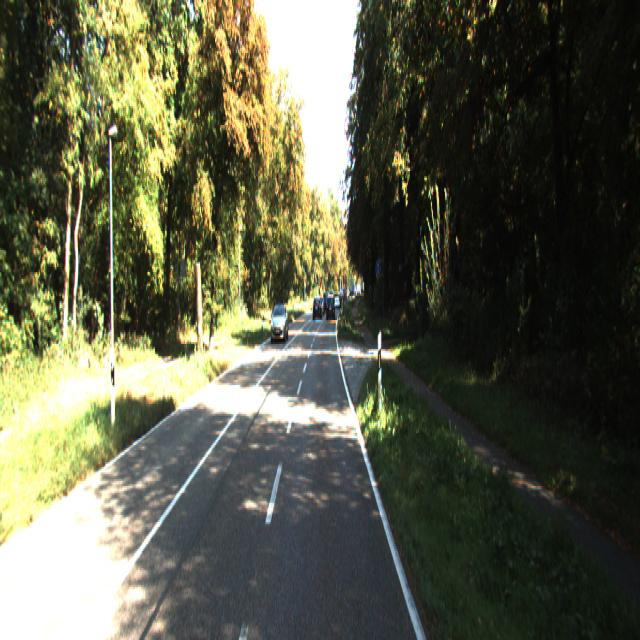Car: (270, 299, 290, 339)
DontCare: (312, 285, 350, 320)
